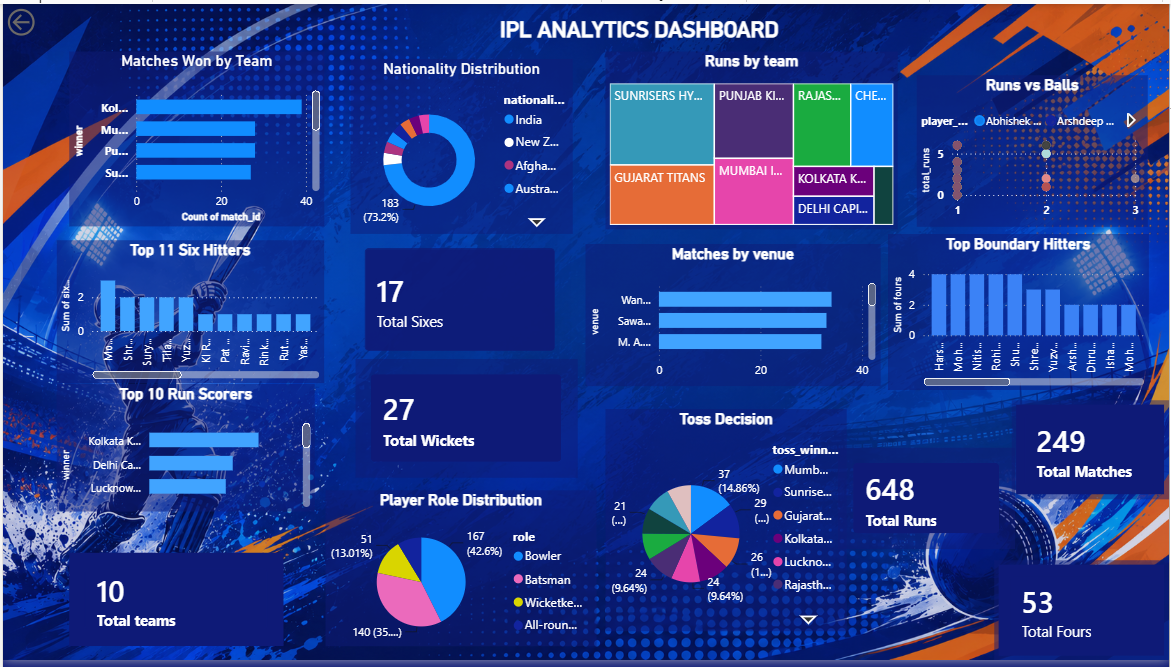

What the dashboard file says about the page in this screenshot:
{"tool":"powerbi","page":{"name":"Page 1","canvas":[1280,720],"ordinal":0},"visuals":[{"type":"clusteredBarChart","title":" Matches Won by Team","fields":{"Category":["fact_match_summary.winner"],"Y":["CountNonNull(fact_match_summary.match_id)"]},"box":[72.5,52.5,280,192],"z":0},{"type":"clusteredBarChart","title":"Matches  by venue","fields":{"Y":["CountNonNull(fact_match_summary.match_id)"],"Category":["dim_venue.venue"]},"box":[640,263.8,323.8,156.2],"z":1000},{"type":"clusteredBarChart","title":"Top 10 Run Scorers","fields":{"Category":["fact_match_summary.winner"],"Y":["Sum(fact_player_performance.total_runs)"]},"box":[58.8,417.5,283.3,140],"z":2000},{"type":"actionButton","box":[0,0,100,40],"z":3000},{"type":"columnChart","title":"Top 11 Six Hitters","fields":{"Y":["Sum(fact_player_performance.sixes)"],"Category":["dim_player.player_name"]},"box":[58.8,260,293.3,156.7],"z":4000},{"type":"columnChart","title":"Top Boundary Hitters","fields":{"Y":["Sum(fact_player_performance.fours)"],"Category":["dim_player.player_name"]},"box":[971.2,252.5,286.2,171.2],"z":5000},{"type":"pieChart","title":"Player Role Distribution  ","fields":{"Y":["CountNonNull(fact_player_performance.player_key)"],"Category":["dim_player.role"]},"box":[353.8,533.8,297.5,171.2],"z":6000},{"type":"pieChart","title":" Toss Decision","fields":{"Y":["CountNonNull(fact_match_summary.match_id)"],"Category":["fact_match_summary.toss_winner"]},"box":[661.1,444,265,243.8],"z":7000},{"type":"scatterChart","title":" Runs vs Balls","fields":{"X":["fact_player_performance.balls_faced"],"Y":["fact_player_performance.total_runs"],"Series":["dim_player.player_name"]},"box":[1003.8,78.8,253.8,166.2],"z":8000},{"type":"treemap","title":"Runs by team","fields":{"Values":["Sum(fact_player_performance.total_runs)"],"Details":["dim_player.team"]},"box":[661.2,52.5,321,195],"z":9000},{"type":"cardVisual","title":"Total Matches","fields":{"Data":["CountNonNull(fact_match_summary.match_id)"]},"box":[1107.5,435,172.5,108.8],"z":10000},{"type":"cardVisual","fields":{"Data":["Sum(fact_player_performance.total_runs)"]},"box":[916.2,487.5,194.3,111.4],"z":11000},{"type":"cardVisual","fields":{"Data":["Count(dim_player.team)"]},"box":[72.5,602.5,235,102.5],"z":12000},{"type":"cardVisual","title":"T","fields":{"Data":["Sum(fact_player_performance.dismissals)"]},"box":[387.5,390,243.8,130],"z":13000},{"type":"cardVisual","fields":{"Data":["Sum(fact_player_performance.sixes)"]},"box":[380,251.2,243.8,147.5],"z":14000},{"type":"cardVisual","fields":{"Data":["Sum(fact_player_performance.fours)"]},"box":[1088.2,610.6,191.2,110],"z":15000},{"type":"shape","title":"IPL ANALYTICS DASHBOARD","box":[365.6,13.3,667.2,39.8],"z":16000},{"type":"donutChart","title":"Nationality Distribution","fields":{"Category":["dim_player.nationality"],"Y":["CountNonNull(dim_player.player_id)"]},"box":[381.2,60,244,192],"z":18000}]}

Visuals, with their boxes in screenshot pixels (x1, y1, x2, y2), scaled from the page's 1280x720 canvas onto the 1171x667 screenshot:
" Matches Won by Team" clusteredBarChart: x1=66 y1=49 x2=322 y2=227
"Matches  by venue" clusteredBarChart: x1=586 y1=244 x2=882 y2=389
"Top 10 Run Scorers" clusteredBarChart: x1=54 y1=387 x2=313 y2=516
actionButton: x1=0 y1=0 x2=91 y2=37
"Top 11 Six Hitters" columnChart: x1=54 y1=241 x2=322 y2=386
"Top Boundary Hitters" columnChart: x1=888 y1=234 x2=1150 y2=393
"Player Role Distribution  " pieChart: x1=324 y1=495 x2=596 y2=653
" Toss Decision" pieChart: x1=605 y1=411 x2=847 y2=637
" Runs vs Balls" scatterChart: x1=918 y1=73 x2=1151 y2=227
"Runs by team" treemap: x1=605 y1=49 x2=899 y2=229
"Total Matches" cardVisual: x1=1013 y1=403 x2=1170 y2=504
cardVisual - Sum(fact_player_performance.total_runs): x1=838 y1=452 x2=1016 y2=555
cardVisual - Count(dim_player.team): x1=66 y1=558 x2=281 y2=653
"T" cardVisual: x1=355 y1=361 x2=578 y2=482
cardVisual - Sum(fact_player_performance.sixes): x1=348 y1=233 x2=571 y2=369
cardVisual - Sum(fact_player_performance.fours): x1=996 y1=566 x2=1170 y2=666
"IPL ANALYTICS DASHBOARD" shape: x1=334 y1=12 x2=945 y2=49
"Nationality Distribution" donutChart: x1=349 y1=56 x2=572 y2=233
